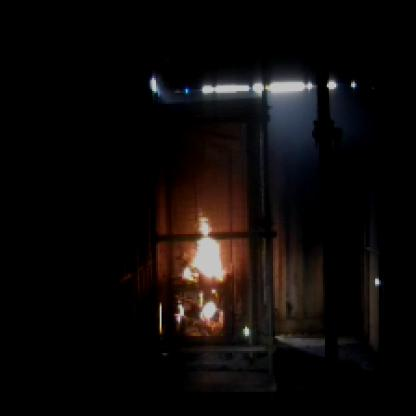Fire: (175, 212, 232, 310)
